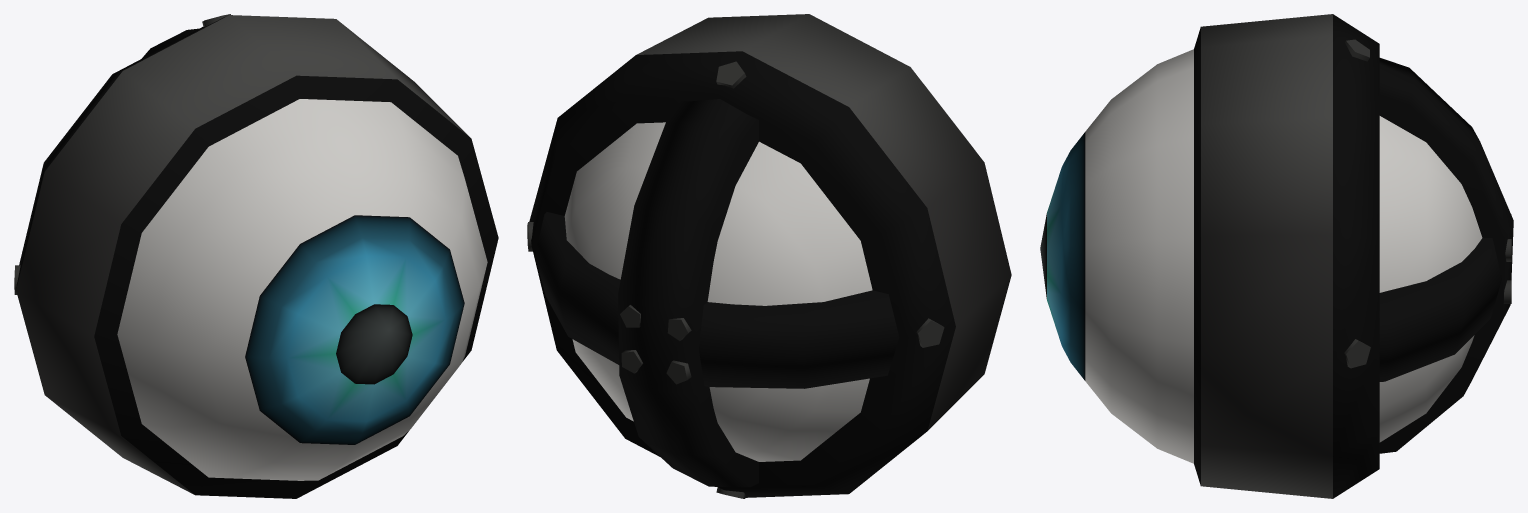
File: grenade_Eyeball.glb
3 views of the same model, side by side, from view 1: azimuth 30°, elevation 25°; view 2: azimuth 150°, elevation 25°; view 3: azimuth 270°, elevation 25° (orthographic).
Parts seen in each view (by area): view 1: grenade_Eyeball; view 2: grenade_Eyeball; view 3: grenade_Eyeball.
Boxes of the visible parts, x1,y1,x2,y2 form: grenade_Eyeball: (14,14,498,498); grenade_Eyeball: (527,14,1011,498); grenade_Eyeball: (1040,14,1513,498).
Bounding box in the file's own units: 0.1569 × 0.1569 × 0.1527.
